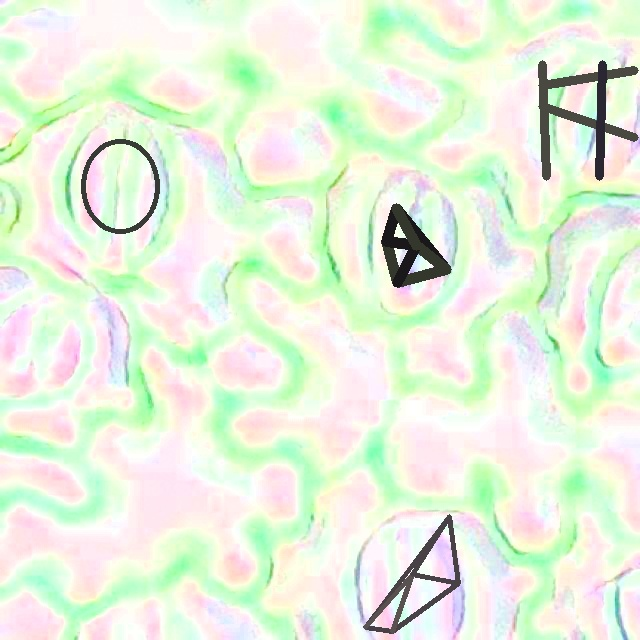close: (363, 514, 460, 633)
open: (538, 60, 637, 180), (81, 138, 160, 235), (381, 203, 450, 287)
